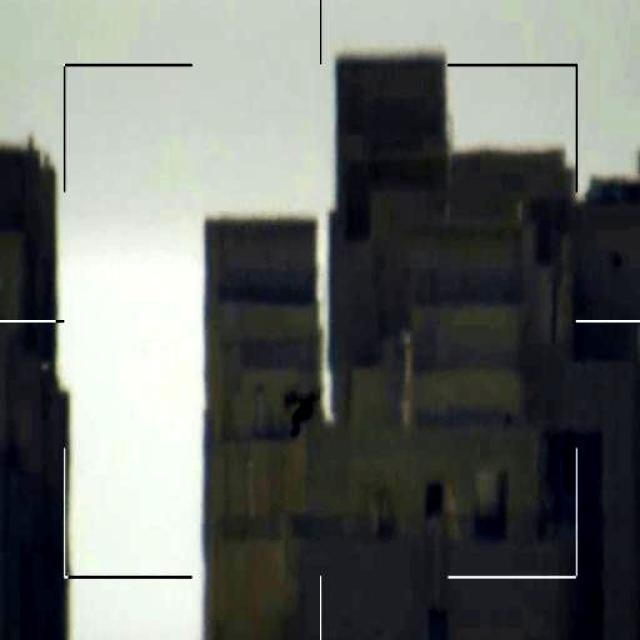bird: (282, 381, 326, 445)
